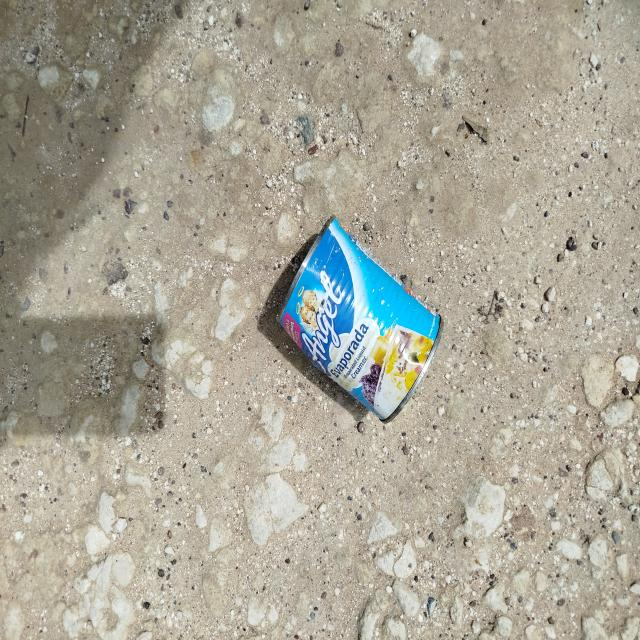metal: (278, 207, 451, 437)
